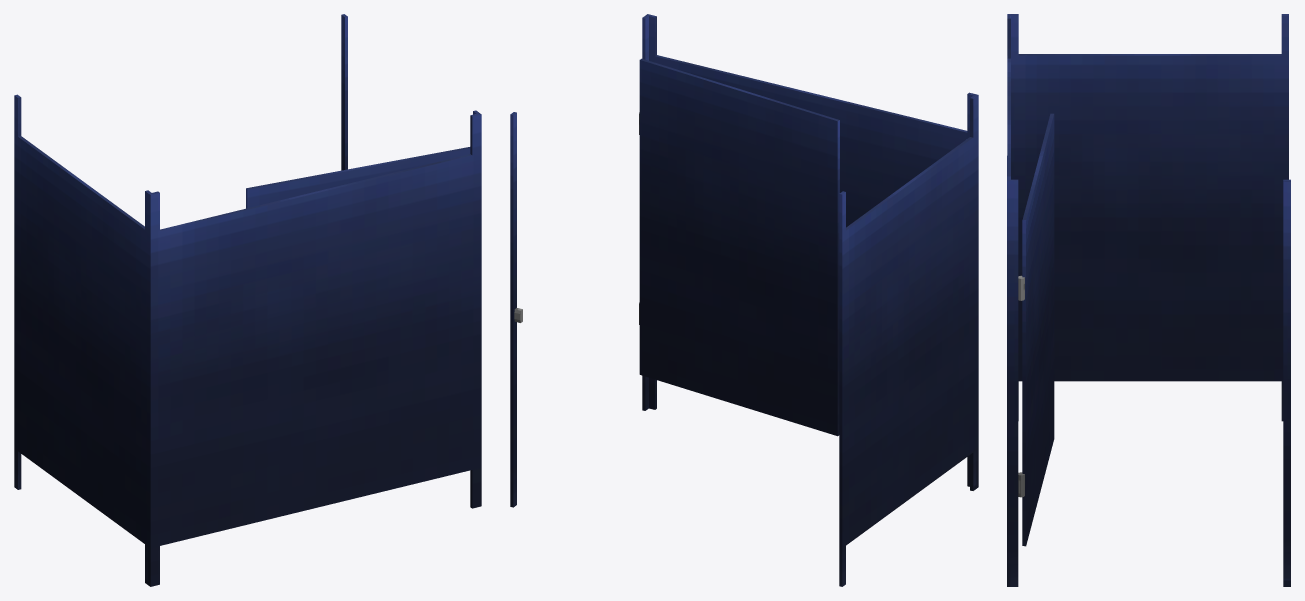
File: stall_open_L.fbx
3 views of the same model, side by side, from view 1: azimuth 30°, elevation 25°; view 2: azimuth 150°, elevation 25°; view 3: azimuth 270°, elevation 25° (orthographic). The views are drawn at different scales.
Parts seen in each view (by area): view 1: stall_open_L; view 2: stall_open_L; view 3: stall_open_L.
Part boxes in pixels (x1,y1,x2,y2): stall_open_L: [14, 14, 481, 586]; stall_open_L: [510, 14, 978, 586]; stall_open_L: [1007, 14, 1290, 586].
Size of the model in its own units: 2.13 by 2.4 by 1.52.
Materials: 1 (1 with a texture image).
